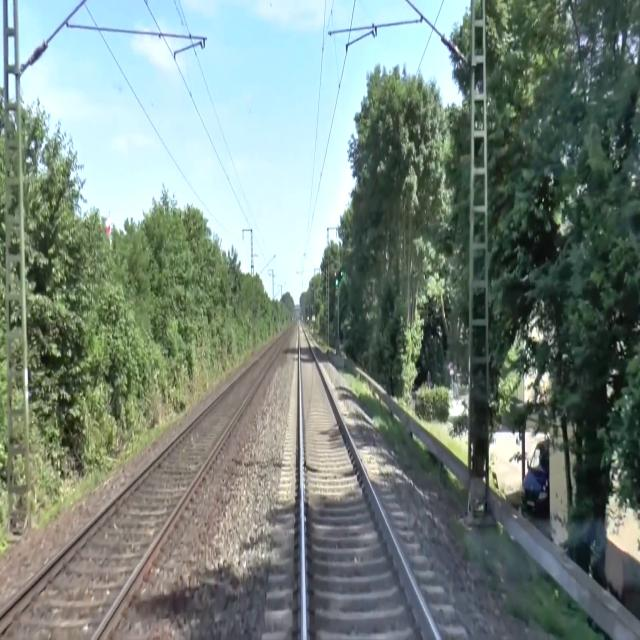rail-track: (0, 332, 287, 639), (300, 327, 434, 639)
